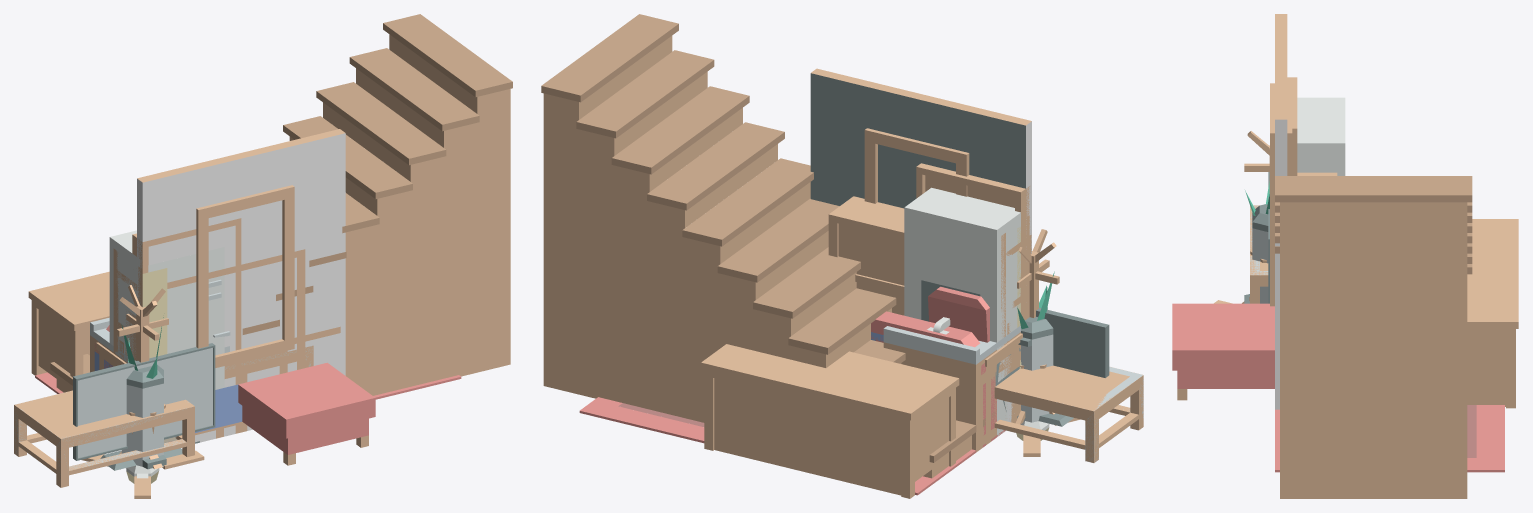
Rendered from furniture.glb.
3 views of the same model, side by side, from view 1: azimuth 30°, elevation 25°; view 2: azimuth 150°, elevation 25°; view 3: azimuth 270°, elevation 25° (orthographic). The views are drawn at different scales.
Parts seen in each view (by area): view 1: stairs(Clone), wallWindow(Clone), wall(Clone), loungeSofaLong(Clone), televisionModern(Clone), tableCoffee(Clone), deskCorner(Clone), trashcan(Clone), doorFridge, kitchenFridge(Clone), bookcaseClosedWide(Clone), doorway(Clone) (+10 smaller); view 2: stairs(Clone), deskCorner(Clone), wallWindow(Clone), kitchenFridge(Clone), wall(Clone), tableCoffee(Clone), bookcaseClosedWide(Clone), kitchenCabinet(Clone), televisionModern(Clone), kitchenSink(Clone), rugRectangle(Clone), chair (+9 smaller); view 3: stairs(Clone), deskCorner(Clone), loungeSofaLong(Clone), wallWindow(Clone), kitchenFridge(Clone), rugRectangle(Clone), trashcan(Clone), wall(Clone), tableCoffee(Clone), doorway(Clone), coatRackStanding(Clone).
Boxes of the visible parts, x1,y1,x2,y2 form: stairs(Clone): (50, 14, 512, 395); wallWindow(Clone): (137, 129, 345, 442); wall(Clone): (137, 129, 345, 441); loungeSofaLong(Clone): (238, 362, 375, 465); televisionModern(Clone): (73, 343, 215, 470); tableCoffee(Clone): (14, 390, 194, 487); deskCorner(Clone): (28, 271, 340, 390); trashcan(Clone): (121, 360, 166, 469); doorFridge: (167, 287, 224, 389); kitchenFridge(Clone): (109, 230, 140, 360); bookcaseClosedWide(Clone): (116, 249, 305, 369); doorway(Clone): (132, 218, 241, 433); stairs(Clone): (541, 14, 996, 478); deskCorner(Clone): (701, 344, 959, 498); wallWindow(Clone): (810, 68, 1031, 253); kitchenFridge(Clone): (904, 187, 1020, 436); wall(Clone): (810, 74, 1031, 252); tableCoffee(Clone): (994, 365, 1143, 462); bookcaseClosedWide(Clone): (828, 196, 1031, 412); kitchenCabinet(Clone): (883, 329, 1020, 450); televisionModern(Clone): (1036, 307, 1109, 426); kitchenSink(Clone): (883, 317, 1021, 449); rugRectangle(Clone): (579, 397, 1005, 495); chair: (928, 286, 1020, 385); stairs(Clone): (1275, 176, 1472, 498); deskCorner(Clone): (1467, 219, 1518, 408); loungeSofaLong(Clone): (1172, 303, 1274, 400); wallWindow(Clone): (1270, 14, 1292, 409); kitchenFridge(Clone): (1297, 97, 1345, 175); rugRectangle(Clone): (1275, 405, 1504, 472); trashcan(Clone): (1244, 204, 1268, 303); wall(Clone): (1275, 14, 1287, 409); tableCoffee(Clone): (1250, 205, 1268, 303); doorway(Clone): (1287, 77, 1297, 175); coatRackStanding(Clone): (1242, 131, 1269, 303).
Size of the model in its own units: 2.28 by 1.47 by 1.38.
